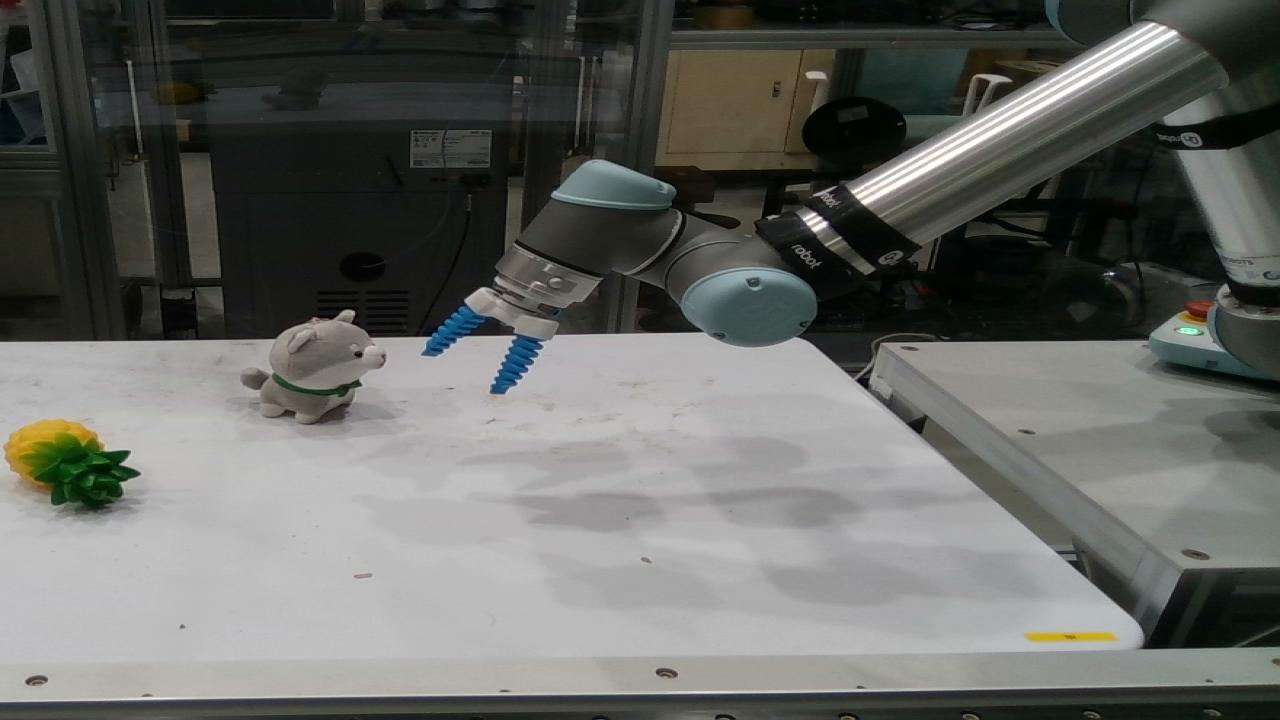UR5: (467, 6, 1274, 377)
gripper_left: (422, 306, 486, 356)
gripper_right: (496, 336, 538, 394)
target: (256, 313, 382, 422), (6, 420, 136, 507)
